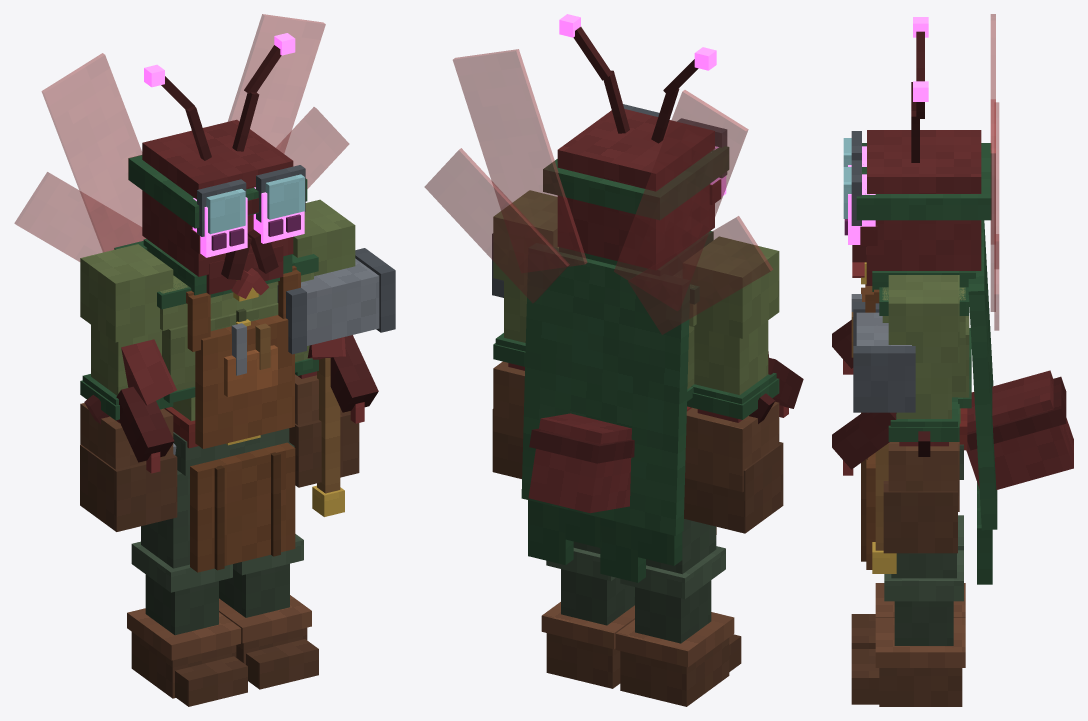
Rendered from insectoid_forgeron_v2.glb.
The picture shows the model from 3 angles, left to right: view 1: azimuth 30°, elevation 25°; view 2: azimuth 150°, elevation 25°; view 3: azimuth 270°, elevation 25°; orthographic projection. The views are drawn at different scales.
Visible parts, largest first — view 1: Torso, Head, ArmR, LegR, HandL, LegL, ArmL; view 2: Torso, Head, ArmR, LegR, ArmL, LegL; view 3: Torso, Head, ArmL, LegL, HandL, LegR.
Boxes of the visible parts, x1,y1,x2,y2 form: Torso: [14, 14, 378, 572]; Head: [128, 33, 307, 298]; ArmR: [80, 244, 177, 531]; LegR: [127, 470, 247, 706]; HandL: [277, 248, 395, 516]; LegL: [219, 442, 318, 689]; ArmL: [289, 199, 359, 487]; Torso: [424, 49, 803, 582]; Head: [543, 14, 729, 269]; ArmR: [683, 236, 783, 533]; LegR: [615, 519, 741, 706]; ArmL: [492, 190, 557, 478]; LegL: [541, 541, 634, 688]; Torso: [832, 14, 1073, 584]; Head: [843, 17, 991, 285]; ArmL: [883, 275, 959, 553]; LegL: [851, 550, 965, 706]; HandL: [853, 302, 915, 573]; LegR: [851, 515, 965, 648].
Bounding box in the file's own units: 1.12 × 1.98 × 0.699.
38 materials, 38 textured.
